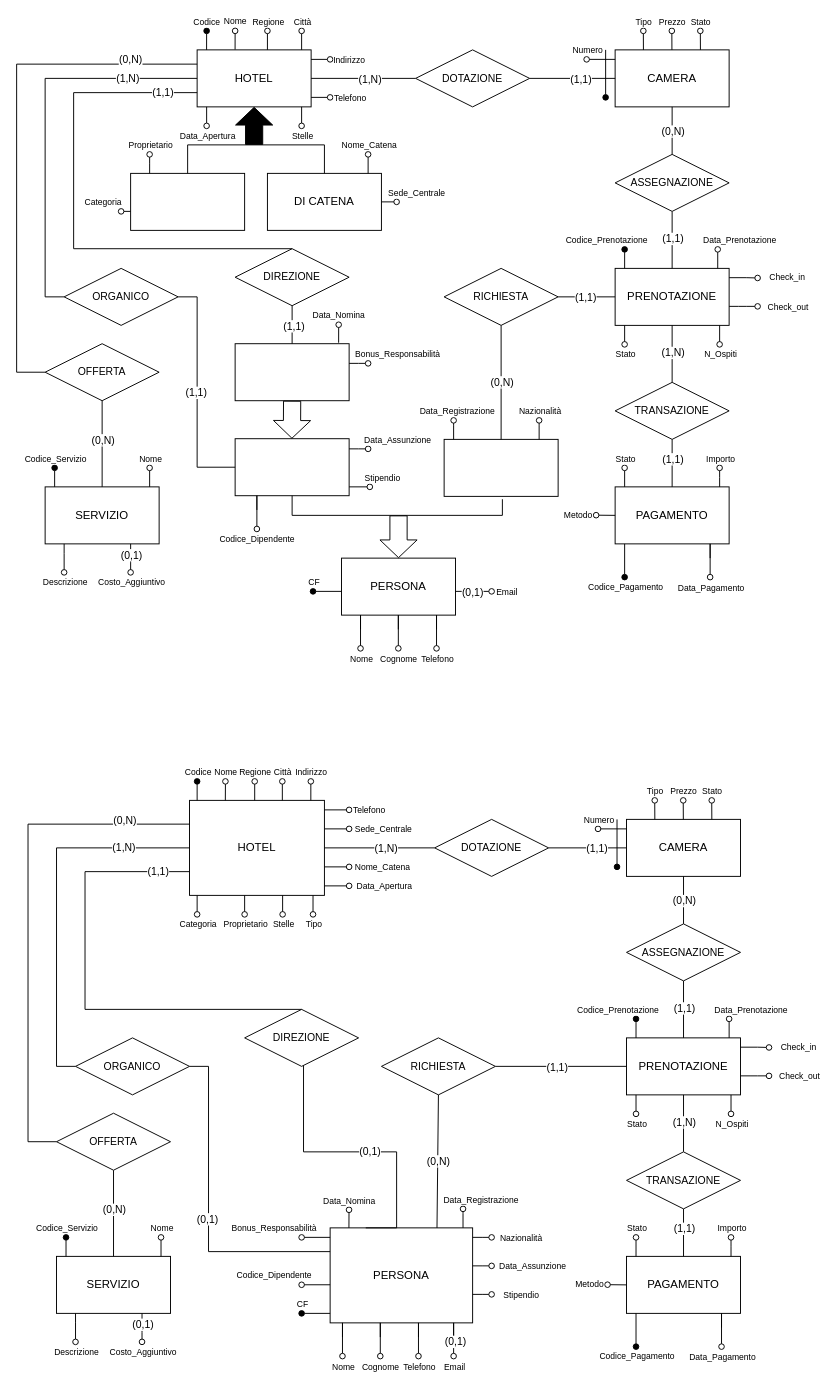
Image size: 836x1389. Some labels were removed from this diagram. Here are the shapes that lost their labels. From the top down, the centre of each, then its label:
the point at 187,201: INDIPENDENTE
the point at 291,372: DIRETTORE
the point at 291,467: DIPENDENTE
the point at 500,467: CLIENTE
